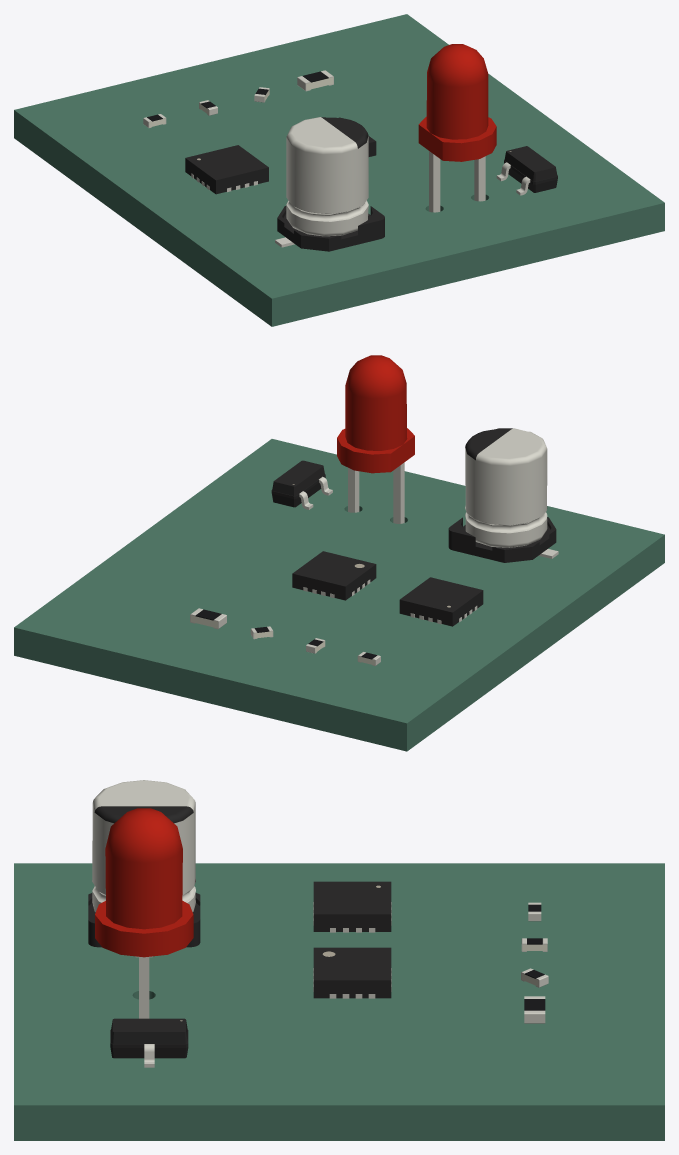
Rendered from draco-coarse.glb.
3 views of the same model, one above another, from view 1: azimuth 30°, elevation 25°; view 2: azimuth 150°, elevation 25°; view 3: azimuth 270°, elevation 25° (orthographic). The views are drawn at different scales.
Parts seen in each view (by area): view 1: =>[0:1:1:16], C1, D1, U1, Q1, R4; view 2: =>[0:1:1:16], C1, D1, U2, U1, Q1; view 3: =>[0:1:1:16], D1, C1, U2, U1, Q1, R4.
Part boxes in pixels (bbox=[...]): =>[0:1:1:16]: bbox=[14, 14, 664, 326]; C1: bbox=[275, 117, 384, 251]; D1: bbox=[418, 44, 496, 212]; U1: bbox=[185, 145, 268, 194]; Q1: bbox=[496, 146, 557, 195]; R4: bbox=[297, 70, 333, 91]; =>[0:1:1:16]: bbox=[14, 439, 664, 751]; C1: bbox=[448, 428, 558, 562]; D1: bbox=[337, 355, 414, 523]; U2: bbox=[292, 551, 376, 600]; U1: bbox=[399, 577, 483, 626]; Q1: bbox=[271, 460, 332, 509]; =>[0:1:1:16]: bbox=[14, 863, 664, 1140]; D1: bbox=[95, 808, 193, 1018]; C1: bbox=[88, 780, 200, 957]; U2: bbox=[313, 947, 391, 998]; U1: bbox=[313, 881, 391, 932]; Q1: bbox=[110, 1018, 188, 1067]; R4: bbox=[524, 996, 545, 1023].
Size of the model in its own units: 0.022 by 0.0108 by 0.025.
